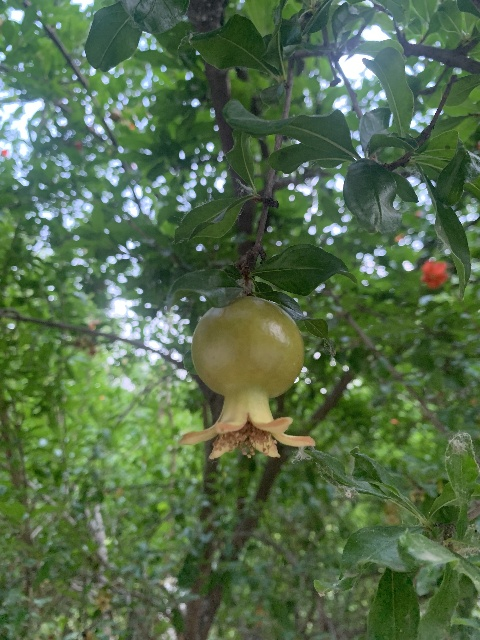flower: (420, 260, 449, 289)
mid-growth: (177, 296, 315, 461)
